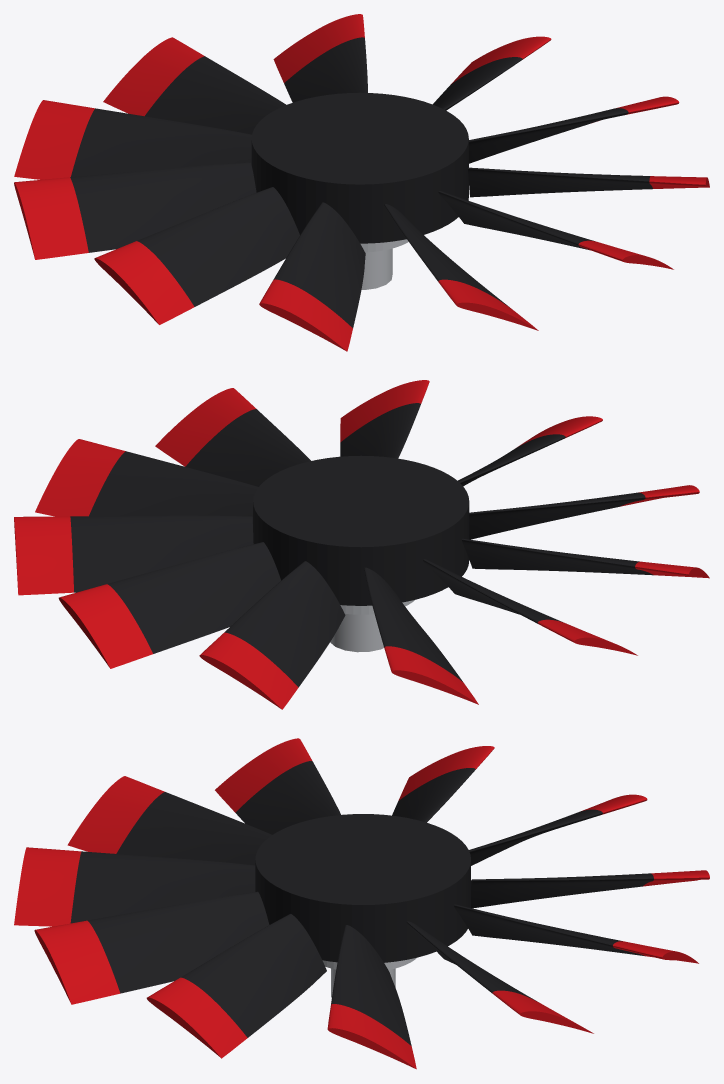
The model's file is x1_pusher_ccw.glb.
3 views of the same model, one above another, from view 1: azimuth 30°, elevation 25°; view 2: azimuth 150°, elevation 25°; view 3: azimuth 270°, elevation 25° (orthographic).
Visible parts, largest first — view 1: x1_pusher_ccw; view 2: x1_pusher_ccw; view 3: x1_pusher_ccw.
Part boxes in pixels (bbox=[...]): x1_pusher_ccw: bbox=[14, 14, 709, 351]; x1_pusher_ccw: bbox=[14, 380, 709, 709]; x1_pusher_ccw: bbox=[14, 738, 709, 1069].
Bounding box in the file's own units: 0.641 × 0.14 × 0.6453.
